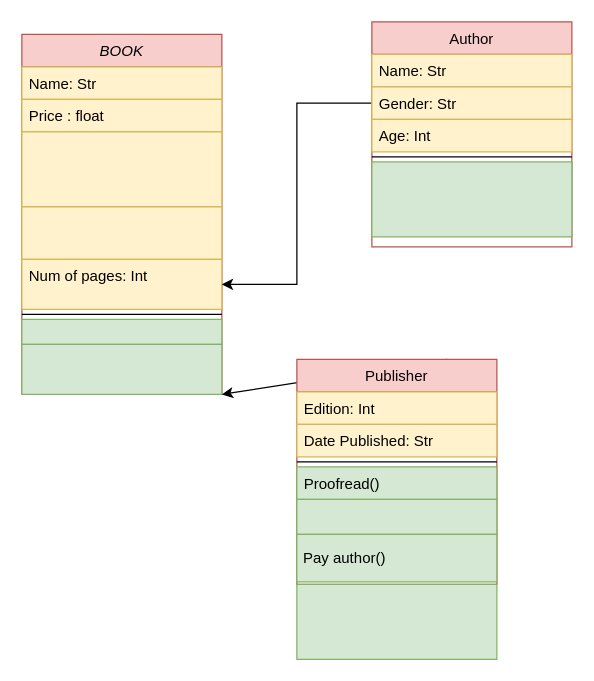
Image size: 594x681. Some labels were removed from this diagram. Here are the shapes that lost their labels. From the top down, the centre of each, then its label:
(121,169): Author: Str
(471,199): Write new book()
(121,232): Genre: str
(121,331): Get Author_Name()
(396,516): Print book()
(396,621): Publish_Book()
